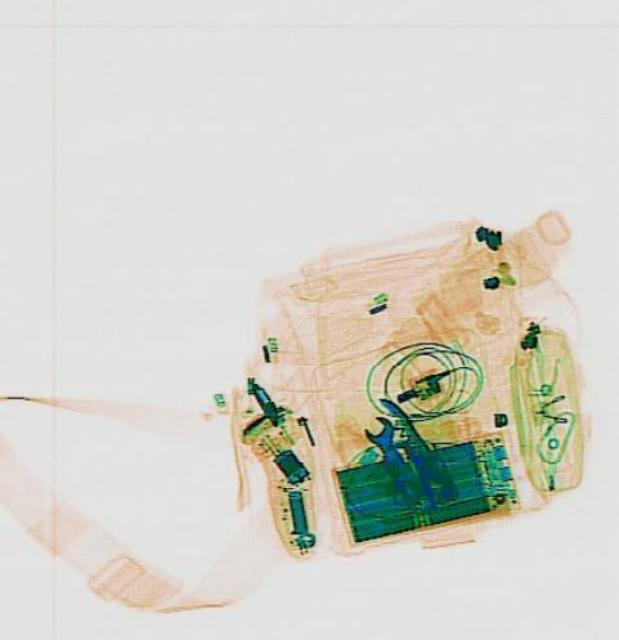Knife: (369, 391, 464, 504)
Wrench: (355, 408, 430, 504)
